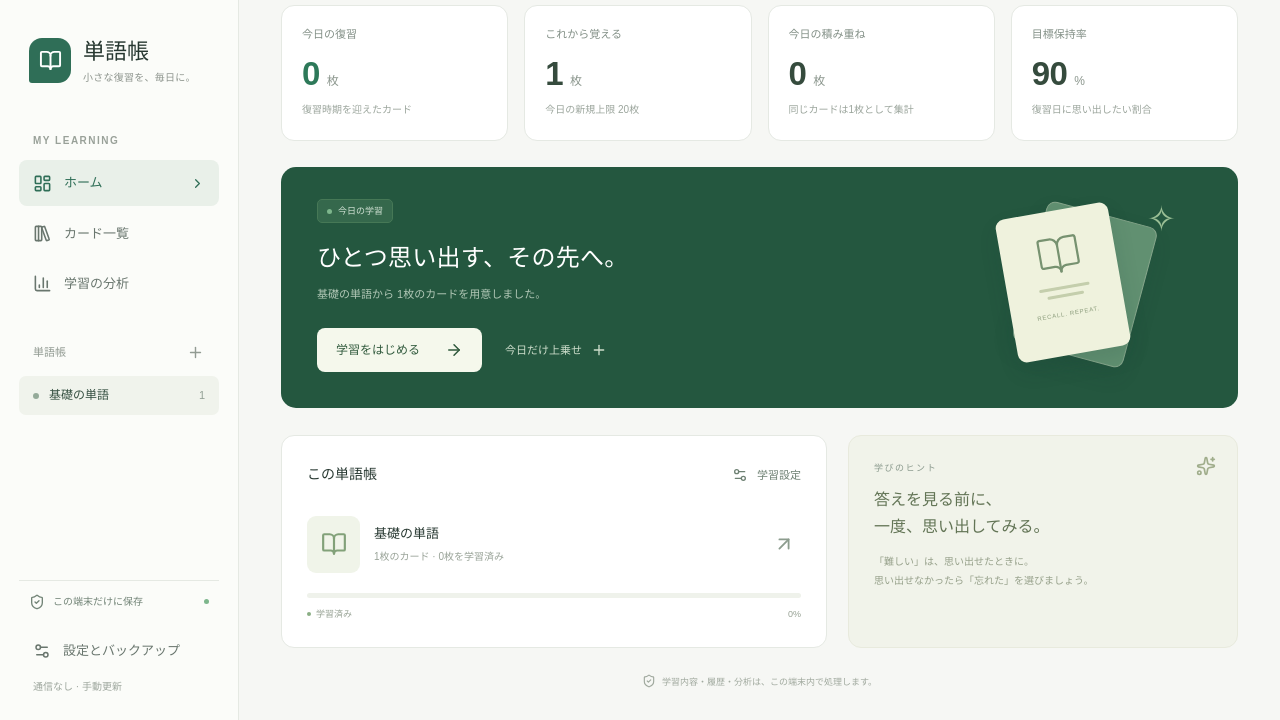
Scenario: deck deletion › requires confirmation, supports cancellation, and returns to the empty library after deleting the last deck
This screenshot has width=1280, height=720.
(page scrolled)
Click the button "学習設定". click: (766, 475)
box: [732,461,801,489]
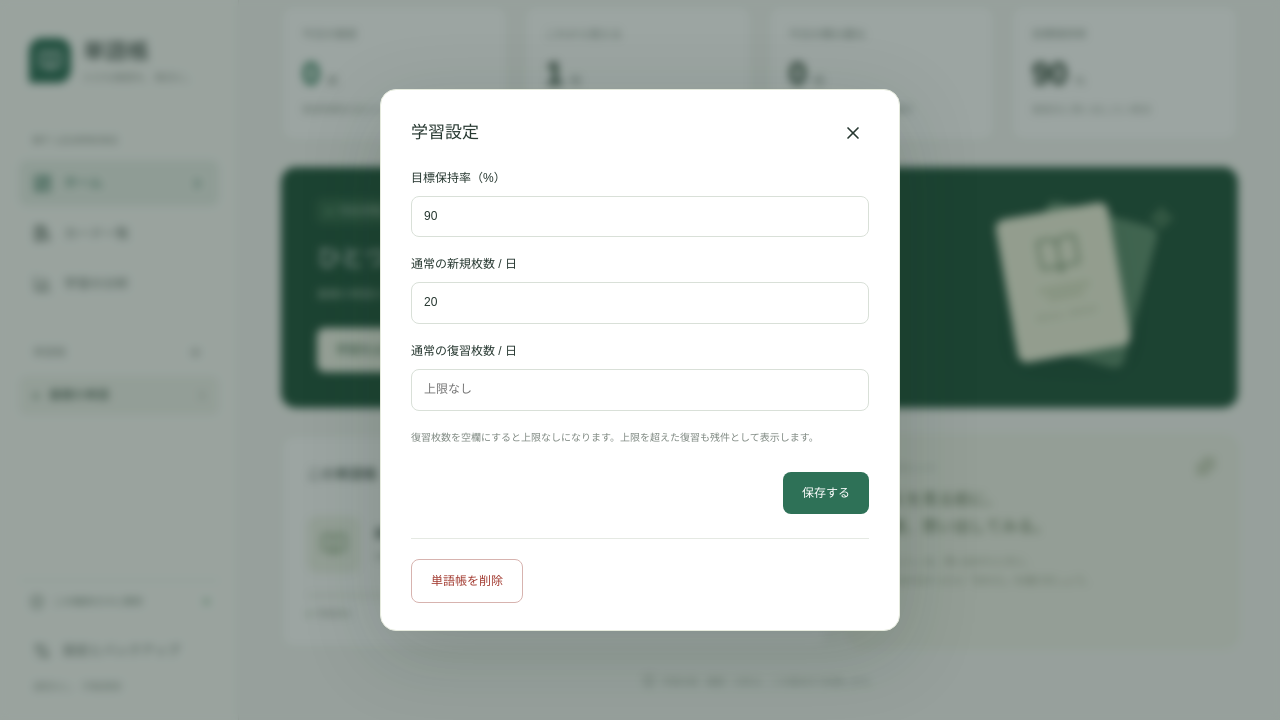
Click the button "単語帳を削除". click: (467, 581)
box: [411,559,523,603]
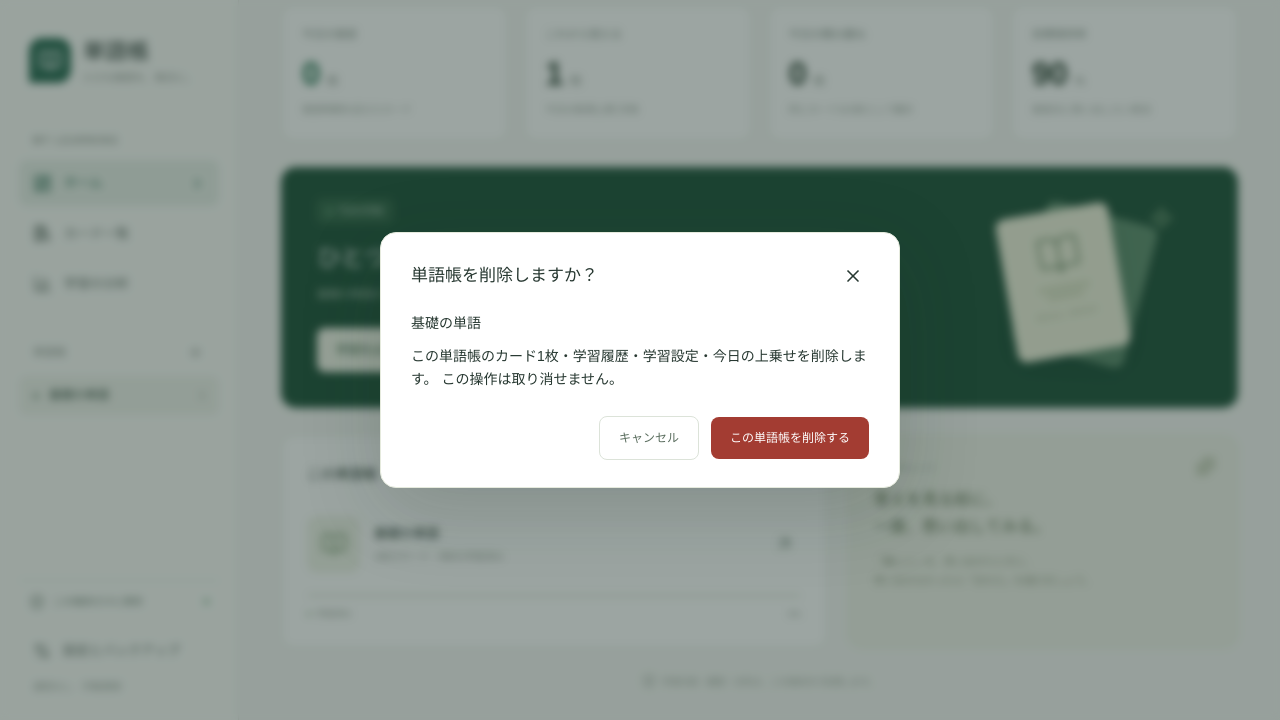
Now the dialog "単語帳を削除しますか？" shows "基礎の単語", box [411,315,481,331]
Click the button "キャンセル". click: (649, 438)
box: [599,416,699,460]
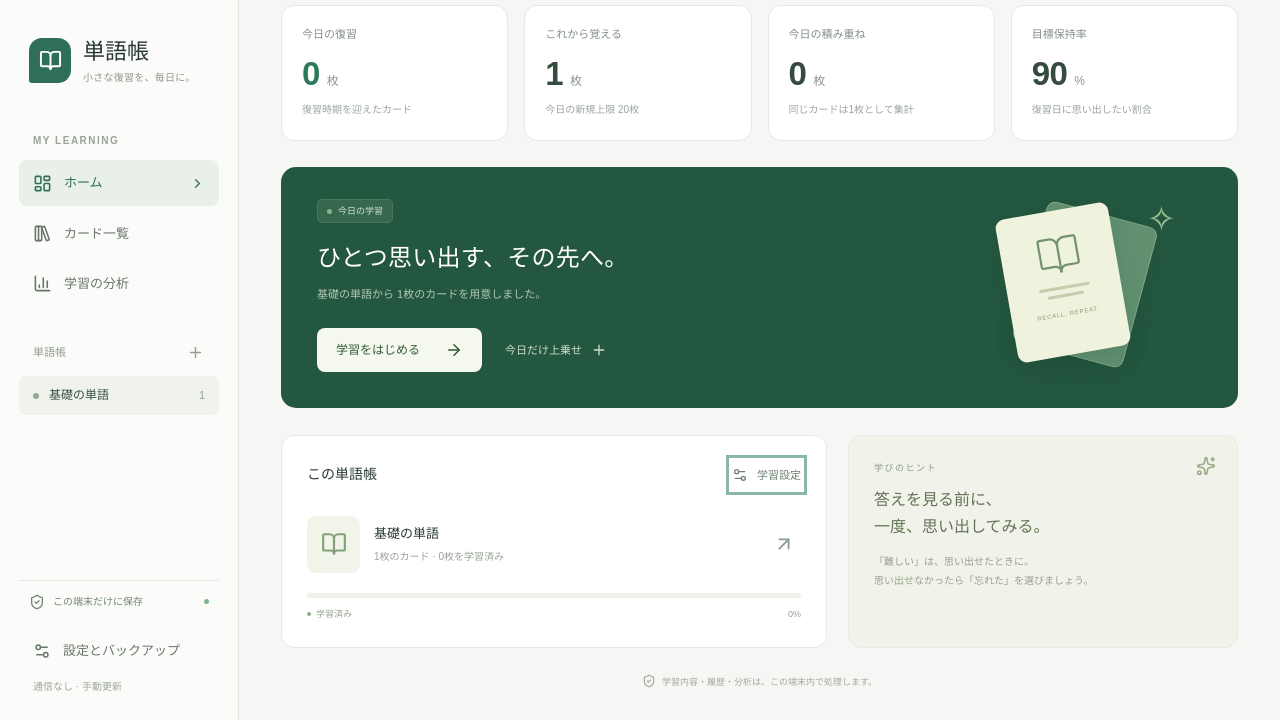
Click the button "学習設定". click: (766, 475)
box: [732,461,801,489]
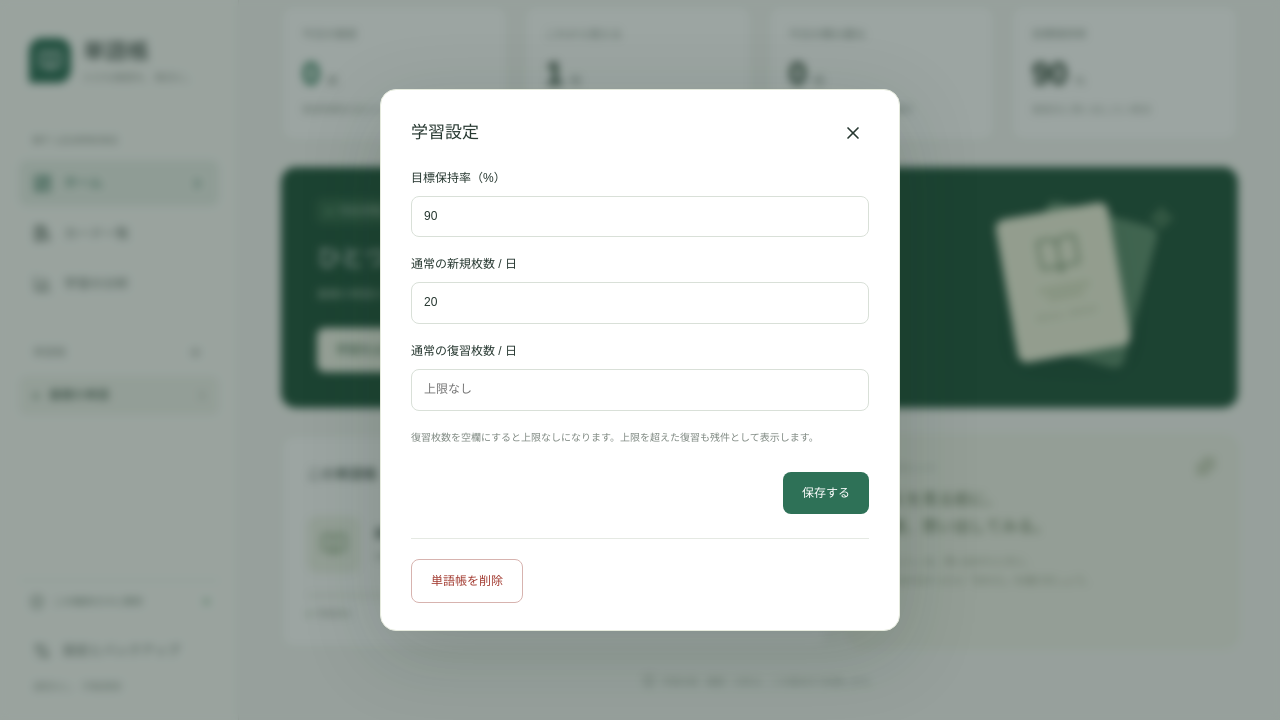
Click the button "単語帳を削除". click: (467, 581)
box: [411,559,523,603]
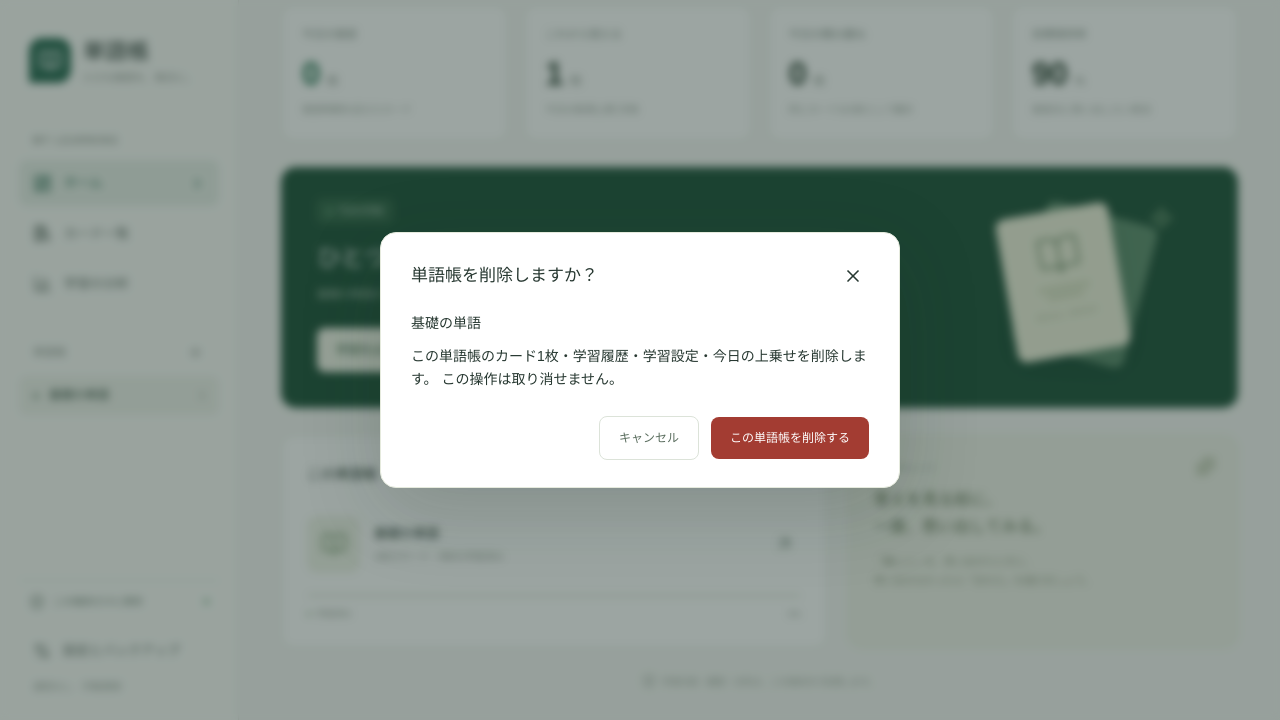
Click the button "この単語帳を削除する". click: (790, 438)
box: [711,417,869,459]
(page scrolled)
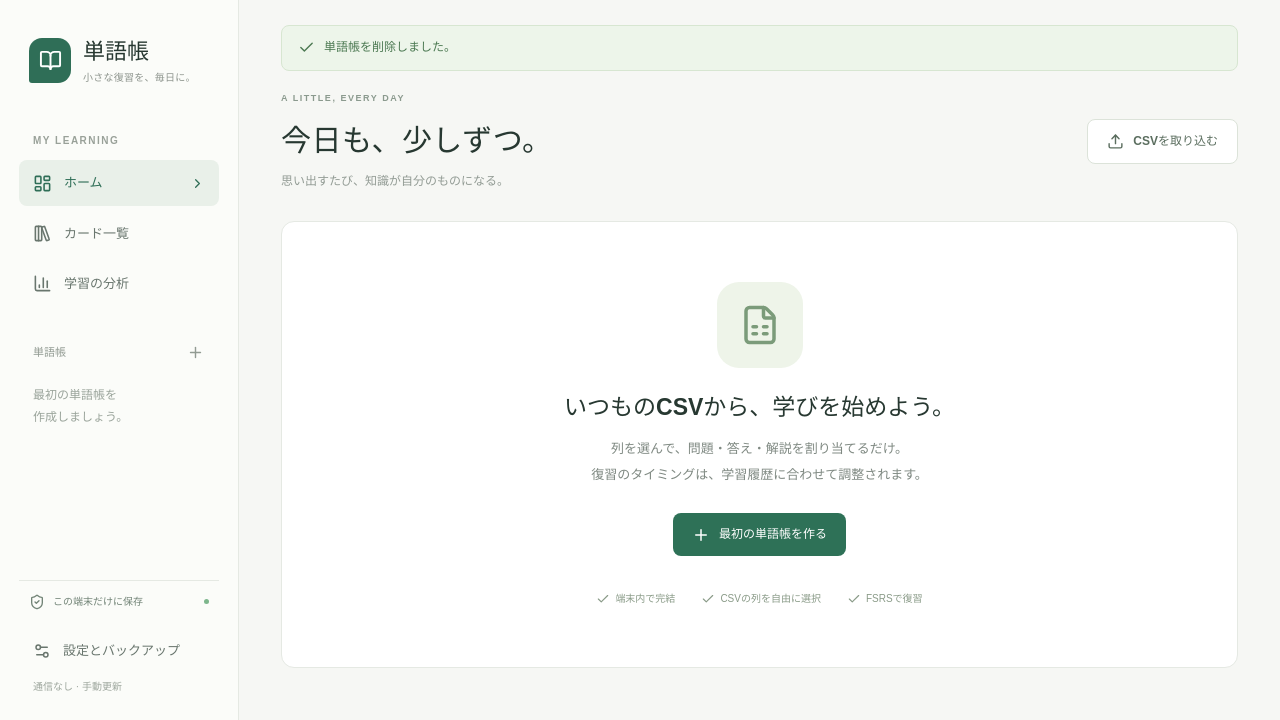
Now the button "最初の単語帳を作る" is shown, box [673,513,846,556]
